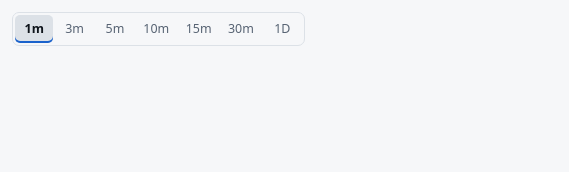
Scenario: provenance › says when today's candle is built from fewer minutes than the market was open
Click the button named "1 day" at (282, 29), box x1=263 y1=15 x2=302 y2=43
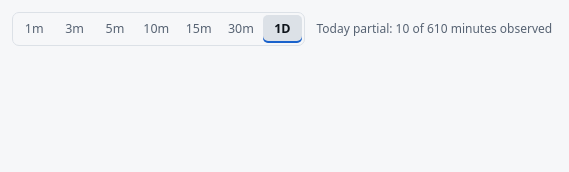
Result: the text "Today partial: 10 of 610 minutes observed" is shown at x1=316 y1=20 x2=552 y2=38
